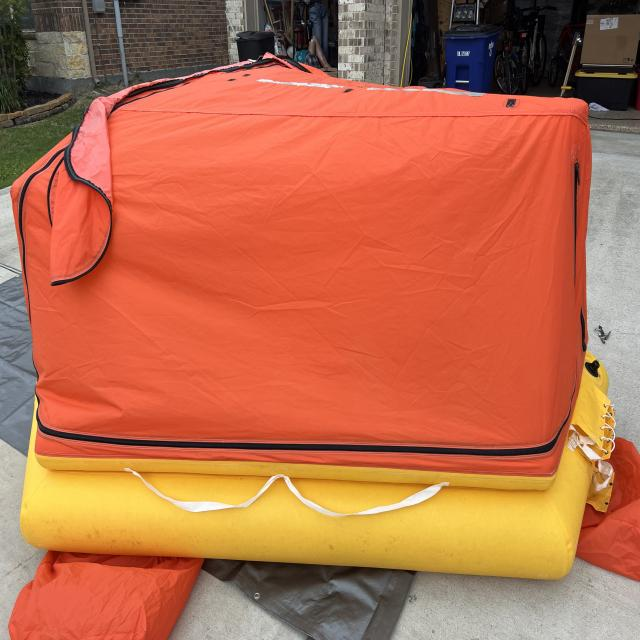Multi-person_life_raft: (7, 51, 640, 640)
